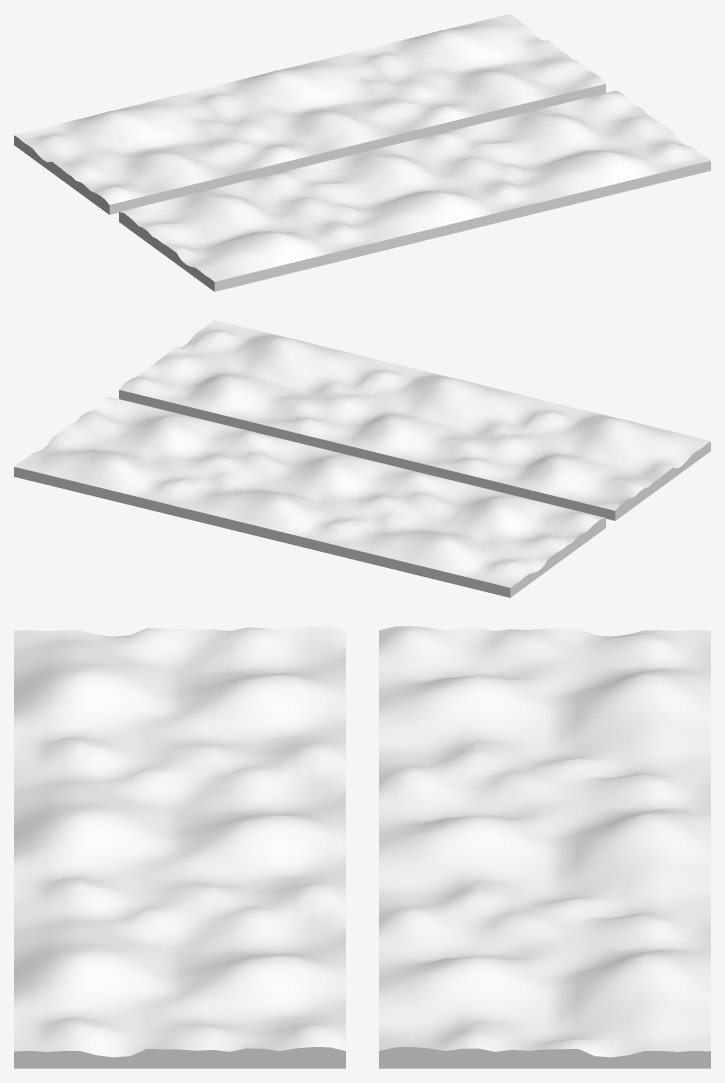
The model's file is waki.fbx.
The picture shows the model from 3 angles, top to bottom: view 1: azimuth 30°, elevation 25°; view 2: azimuth 150°, elevation 25°; view 3: azimuth 270°, elevation 25°; orthographic projection. The views are drawn at different scales.
Visible parts, largest first — view 1: pCube34; view 2: pCube34; view 3: pCube34.
Boxes of the visible parts, left/top/right/bottom form: pCube34: left=14, top=14, right=710, bottom=291; pCube34: left=14, top=320, right=710, bottom=597; pCube34: left=14, top=626, right=710, bottom=1068.
Size of the model in its own units: 720 by 33.62 by 504.
